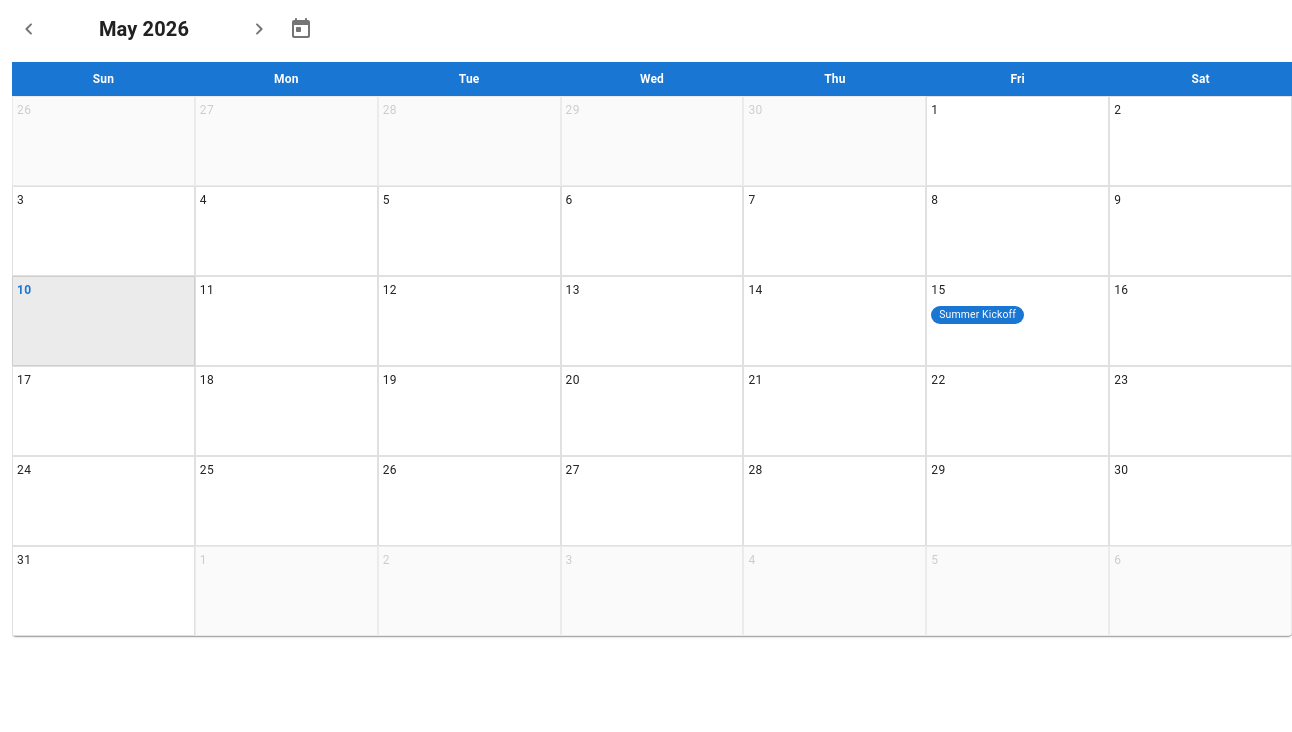
Test case: EventCalendarView › navigates to next month when next button is clicked
The width and height of the screenshot is (1292, 732).
Click the button named "next month". click: (259, 29)
box: [242,12,276,46]
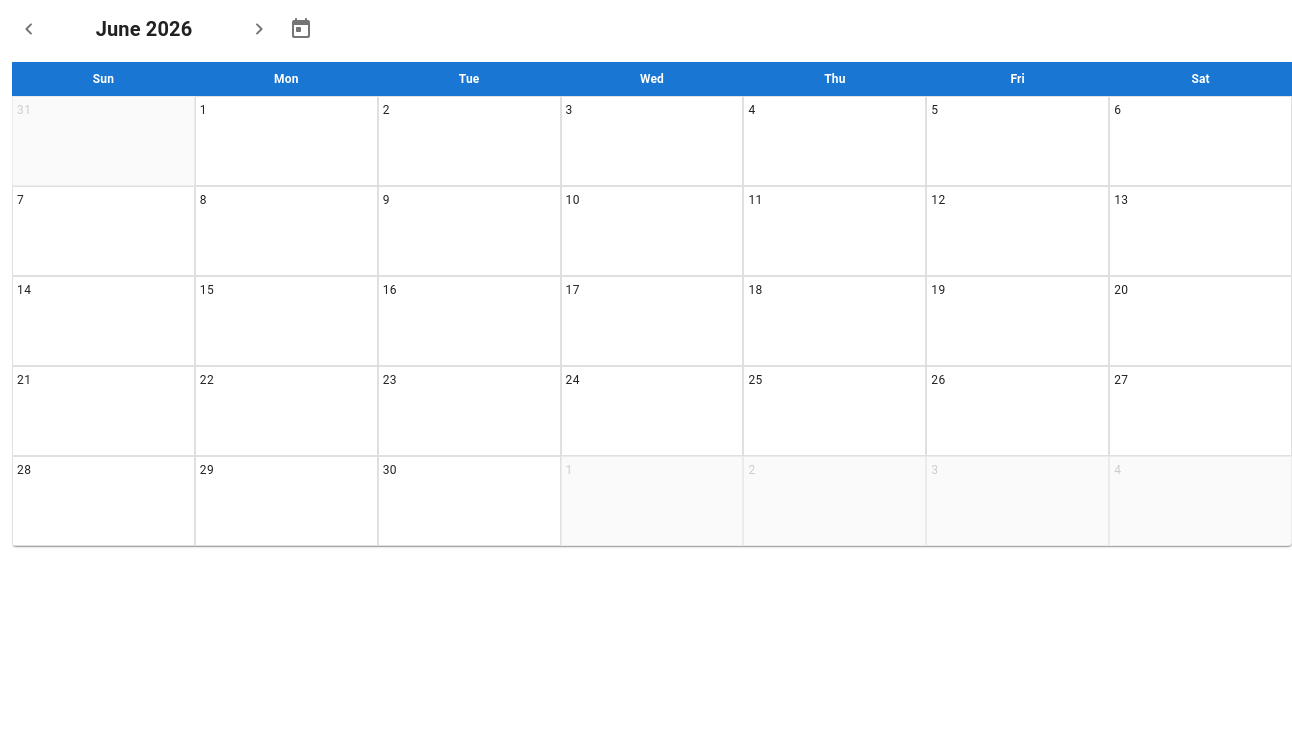
Now the heading "May 2026" no longer shows "May 2026"
